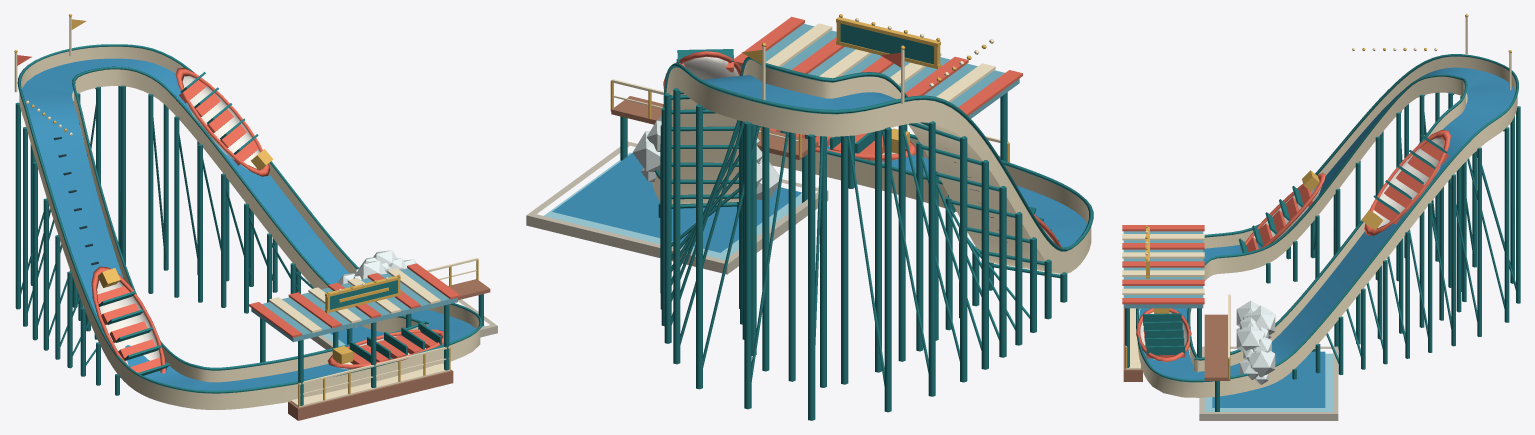
Rendered from ride_splash.glb.
3 renders of one model, left to right at view 1: azimuth 30°, elevation 25°; view 2: azimuth 150°, elevation 25°; view 3: azimuth 270°, elevation 25°, orthographic. The views are drawn at different scales.
Visible parts, largest first — view 1: ride_splash; view 2: ride_splash; view 3: ride_splash.
Part boxes in pixels (x1=…): ride_splash: x1=14, y1=14, x2=497, y2=420; ride_splash: x1=526, y1=14, x2=1093, y2=420; ride_splash: x1=1122, y1=14, x2=1520, y2=420.
Bounding box in the file's own units: 15.25 × 10.7 × 15.5.
